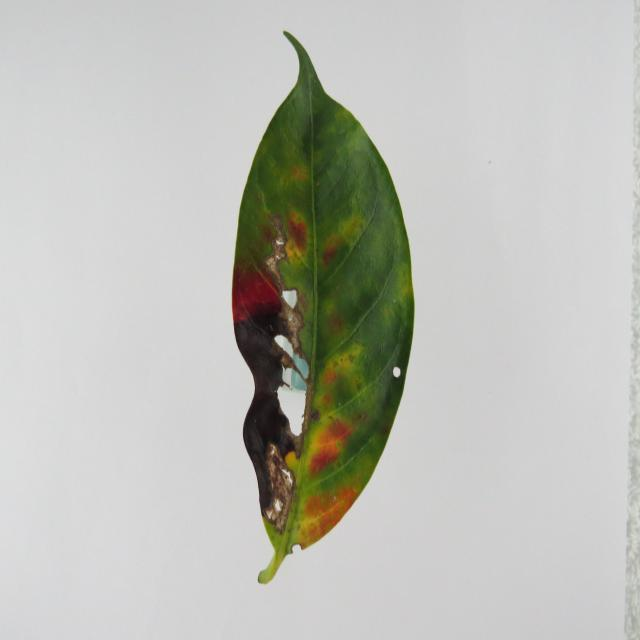DeficienciaNutricional-Fosforo: (232, 33, 414, 583)
